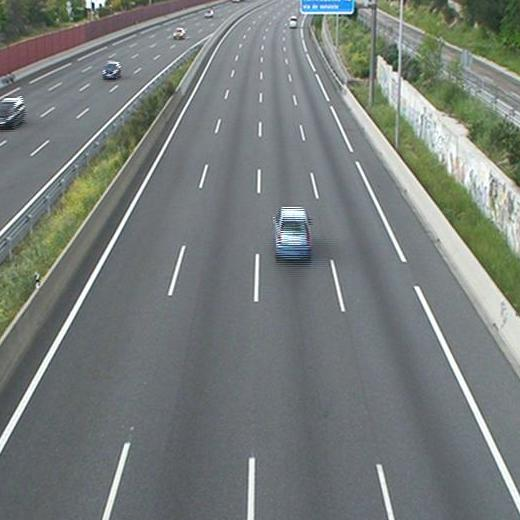car: (273, 206, 313, 261)
